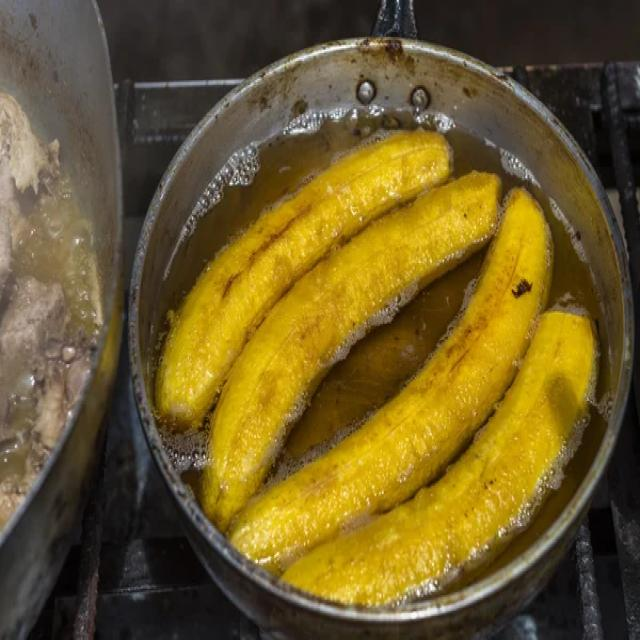platano: (152, 105, 610, 608)
